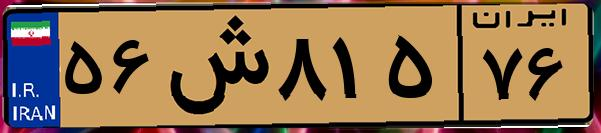1: (330, 28, 385, 110)
5: (385, 28, 445, 110), (57, 26, 110, 100)
6: (525, 38, 570, 115), (110, 28, 158, 98)
7: (475, 38, 525, 113)
8: (270, 28, 330, 110)
ش: (158, 12, 270, 120)
